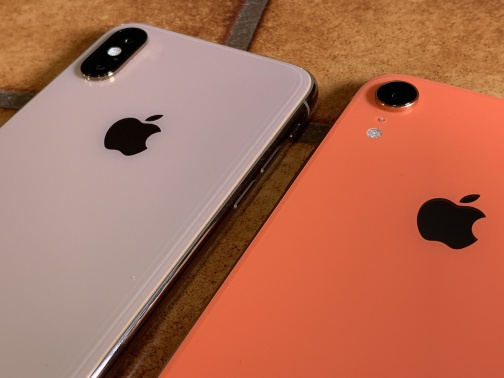apple: (390, 170, 492, 253), (95, 98, 172, 174)
